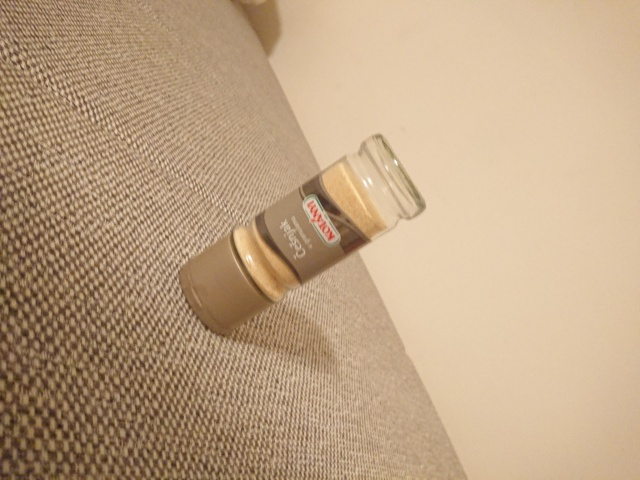Kotanyi Garlic Granules 70g: (176, 130, 430, 340)
